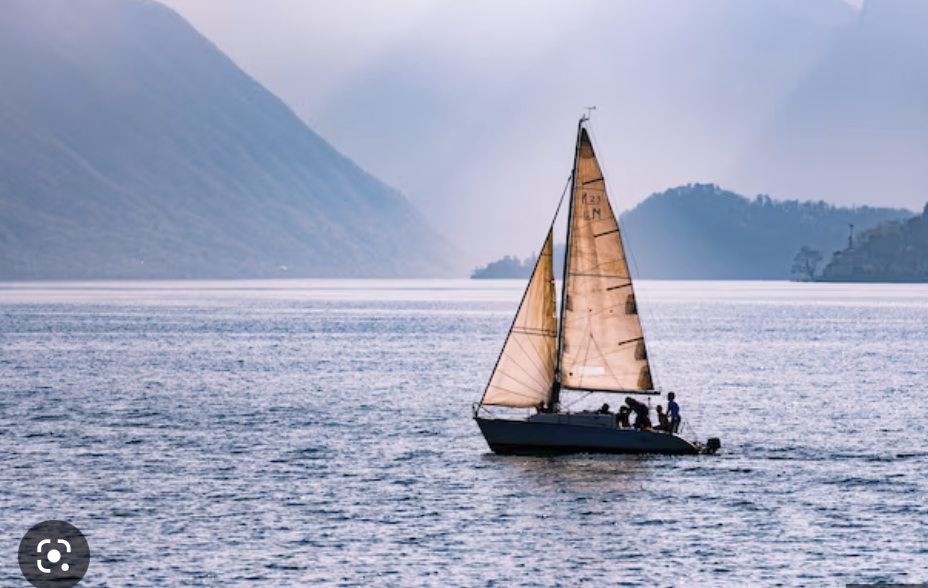ship: (473, 110, 719, 464)
